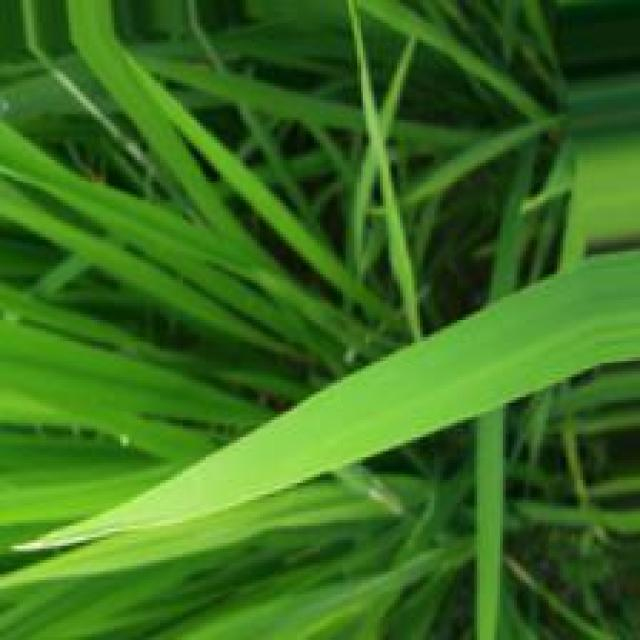HealthyLeaf: (131, 250, 640, 524)
